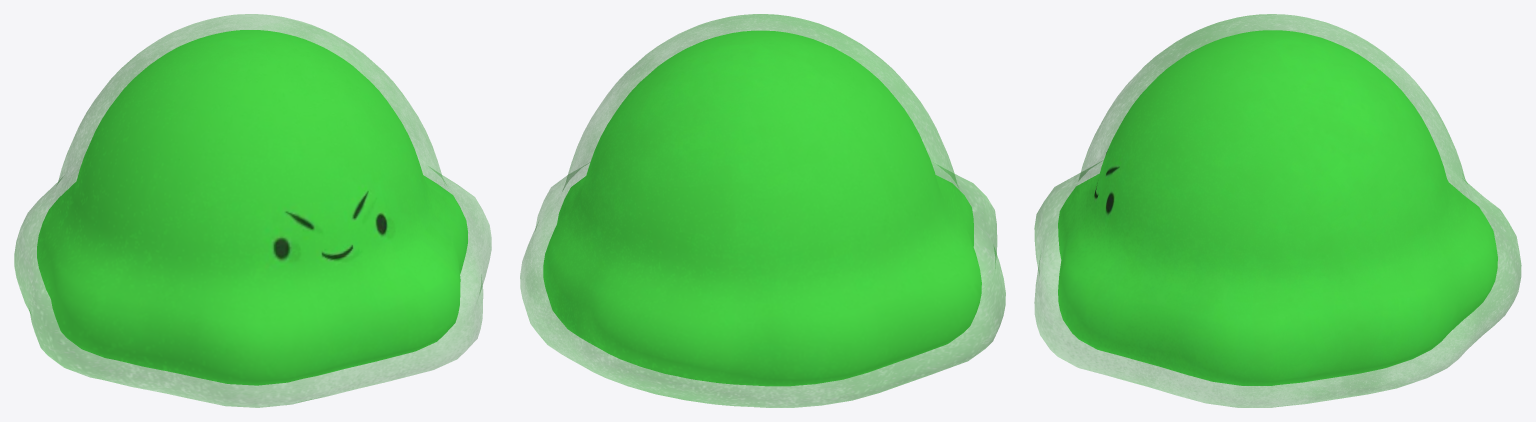
3 views of the same model, side by side, from view 1: azimuth 30°, elevation 25°; view 2: azimuth 150°, elevation 25°; view 3: azimuth 270°, elevation 25° (orthographic).
Visible parts, largest first — view 1: BigSlime_BigSlime1_0, SmallSlime_SmallSlime1_0; view 2: BigSlime_BigSlime1_0, SmallSlime_SmallSlime1_0; view 3: BigSlime_BigSlime1_0, SmallSlime_SmallSlime1_0.
Boxes of the visible parts, x1,y1,x2,y2 form: BigSlime_BigSlime1_0: (14, 14, 491, 407); SmallSlime_SmallSlime1_0: (37, 30, 467, 385); BigSlime_BigSlime1_0: (520, 14, 1005, 407); SmallSlime_SmallSlime1_0: (543, 30, 981, 386); BigSlime_BigSlime1_0: (1034, 14, 1521, 407); SmallSlime_SmallSlime1_0: (1058, 30, 1497, 385).
Size of the model in its own units: 0.0751 by 0.0498 by 0.0728.
Materials: 2 (2 with a texture image).
